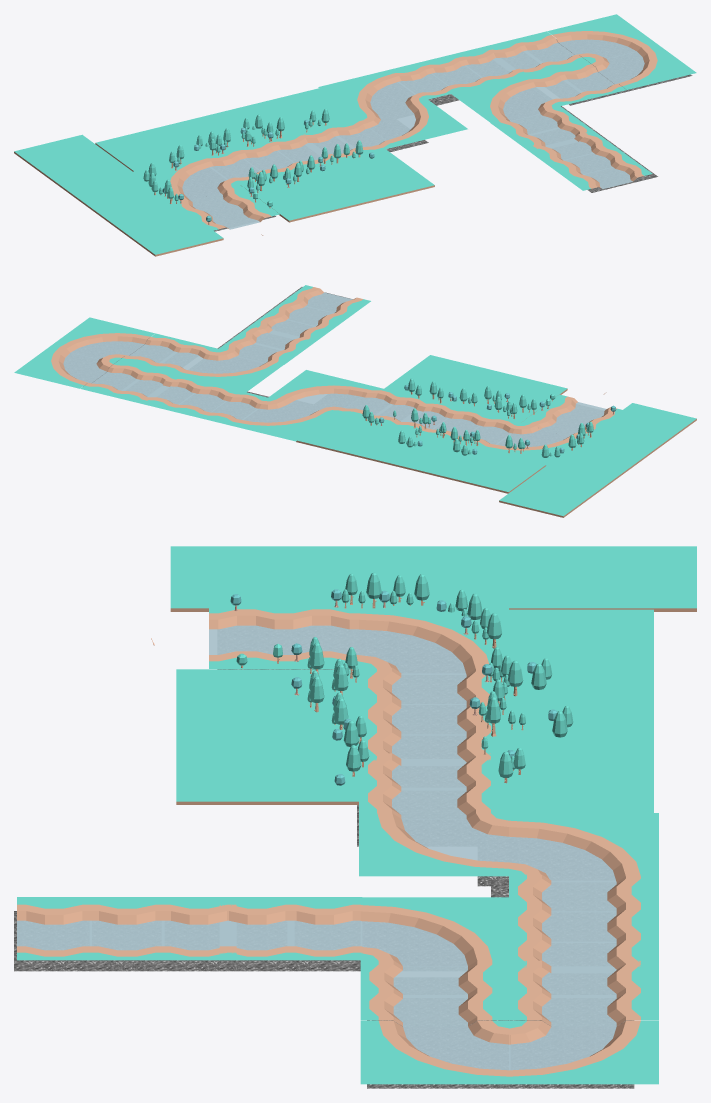
3 views of the same model, one above another, from view 1: azimuth 30°, elevation 25°; view 2: azimuth 150°, elevation 25°; view 3: azimuth 270°, elevation 25° (orthographic). The views are drawn at different scales.
Parts seen in each view (by area): view 1: cliff_blockQuarter_rock.002, cliff_blockQuarter_rock.003, cliff_blockQuarter_rock.001, ground_riverBend.003, ground_riverBend.002, ground_riverBend.005, ground_riverBend.001, ground_riverBend.004, ground_riverBend, ground_riverStraight.014, ground_riverStraight.001, ground_riverStraight.007 (+16 smaller); view 2: cliff_blockQuarter_rock.002, cliff_blockQuarter_rock.003, cliff_blockQuarter_rock.001, ground_riverBend.001, ground_riverBend.004, ground_riverBend.003, ground_riverBend.005, ground_riverBend.002, ground_riverBend, ground_riverStraight.012, ground_riverStraight.014, ground_riverStraight.015 (+16 smaller); view 3: cliff_blockQuarter_rock.002, cliff_blockQuarter_rock.003, cliff_blockQuarter_rock.001, ground_riverBend.005, ground_riverBend.002, ground_riverBend.004, ground_riverBend.003, ground_riverBend.001, ground_riverBend, ground_riverStraight.012, ground_riverStraight.007, ground_riverStraight.015 (+19 smaller).
Boxes of the visible parts, x1,y1,x2,y2 form: cliff_blockQuarter_rock.002: (14, 134, 223, 256); cliff_blockQuarter_rock.003: (95, 88, 357, 171); cliff_blockQuarter_rock.001: (240, 149, 434, 222); ground_riverBend.003: (547, 14, 656, 60); ground_riverBend.002: (318, 70, 426, 116); ground_riverBend.005: (451, 77, 560, 122); ground_riverBend.001: (358, 99, 467, 145); ground_riverBend.004: (587, 43, 696, 89); ground_riverBend: (130, 156, 238, 201); ground_riverStraight.014: (563, 159, 652, 190); ground_riverStraight.001: (191, 199, 279, 231); ground_riverStraight.007: (420, 54, 493, 91); cliff_blockQuarter_rock.002: (499, 403, 696, 517); cliff_blockQuarter_rock.003: (296, 414, 545, 493); cliff_blockQuarter_rock.001: (384, 355, 567, 422); ground_riverBend.001: (268, 370, 371, 413); ground_riverBend.004: (52, 317, 155, 360); ground_riverBend.003: (14, 345, 117, 388); ground_riverBend.005: (180, 349, 283, 392); ground_riverBend.002: (232, 397, 333, 441); ground_riverBend: (485, 422, 586, 466); ground_riverStraight.012: (268, 298, 351, 328); ground_riverStraight.014: (287, 285, 370, 314); ground_riverStraight.015: (148, 340, 217, 376); cliff_blockQuarter_rock.002: (170, 546, 696, 611); cliff_blockQuarter_rock.003: (509, 609, 653, 812); cliff_blockQuarter_rock.001: (176, 669, 358, 804); ground_riverBend.005: (360, 897, 510, 966); ground_riverBend.002: (509, 813, 658, 882); ground_riverBend.004: (360, 1021, 510, 1084); ground_riverBend.003: (509, 1021, 658, 1084); ground_riverBend.001: (359, 813, 508, 876); ground_riverBend: (359, 605, 508, 674); ground_riverStraight.012: (89, 897, 164, 960); ground_riverStraight.007: (509, 905, 658, 942); ground_riverStraight.015: (360, 960, 508, 997).
Size of the model in its own units: 849 by 41.12 by 455.
20 materials, 1 textured.
